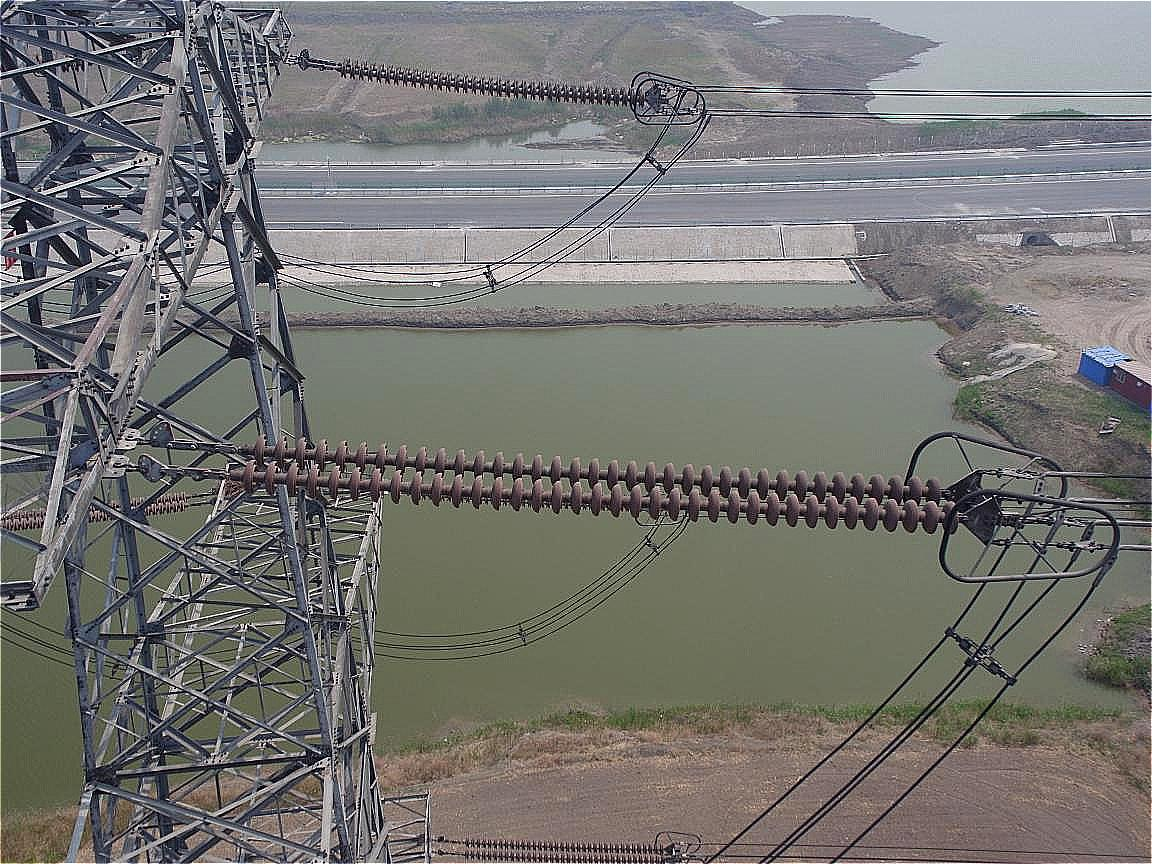insultor1: (187, 425, 1035, 557)
insultor2: (322, 46, 656, 122)
